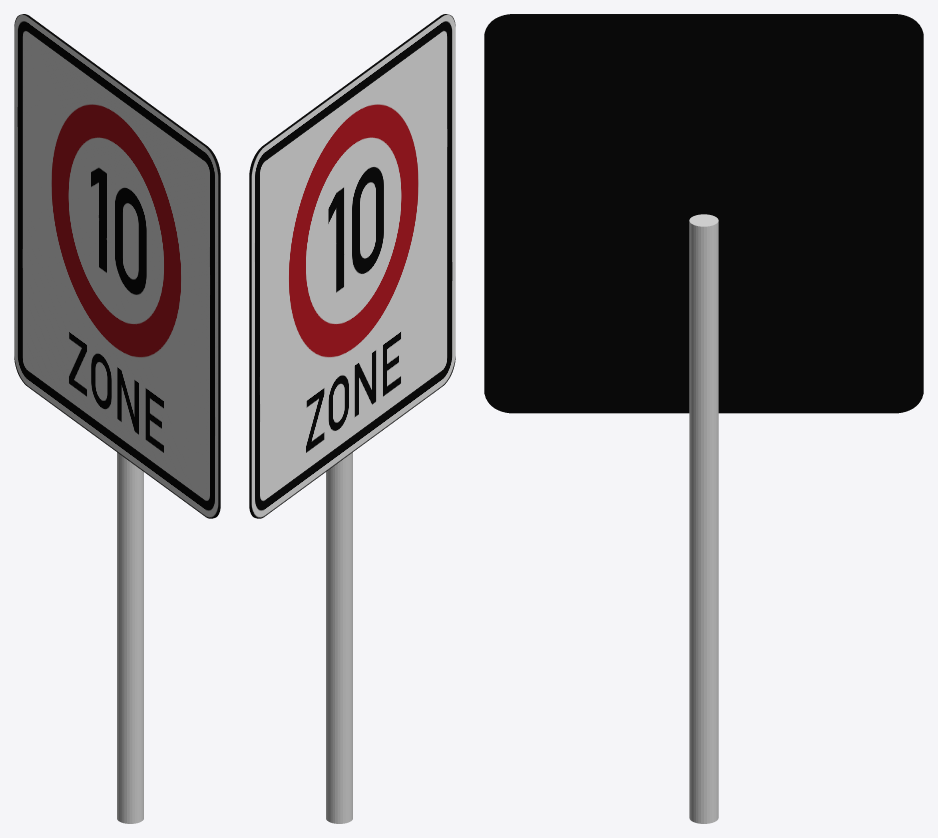
Rendered from speed_limit_zone_10_start_sign.dae.
3 views of the same model, side by side, from view 1: azimuth 30°, elevation 25°; view 2: azimuth 150°, elevation 25°; view 3: azimuth 270°, elevation 25° (orthographic). The views are drawn at different scales.
Visible parts, largest first — view 1: path3678, Cylinder; view 2: path3678, Cylinder; view 3: path3678, Cylinder.
Boxes of the visible parts, box(x1,y1,x2,y2) form: path3678: box(14, 14, 220, 518); Cylinder: box(117, 452, 143, 823); path3678: box(249, 14, 455, 518); Cylinder: box(326, 452, 352, 823); path3678: box(484, 14, 923, 413); Cylinder: box(689, 214, 718, 823).
Bounding box in the file's own units: 0.011 × 0.15 × 0.3.
3 materials, 2 textured.
